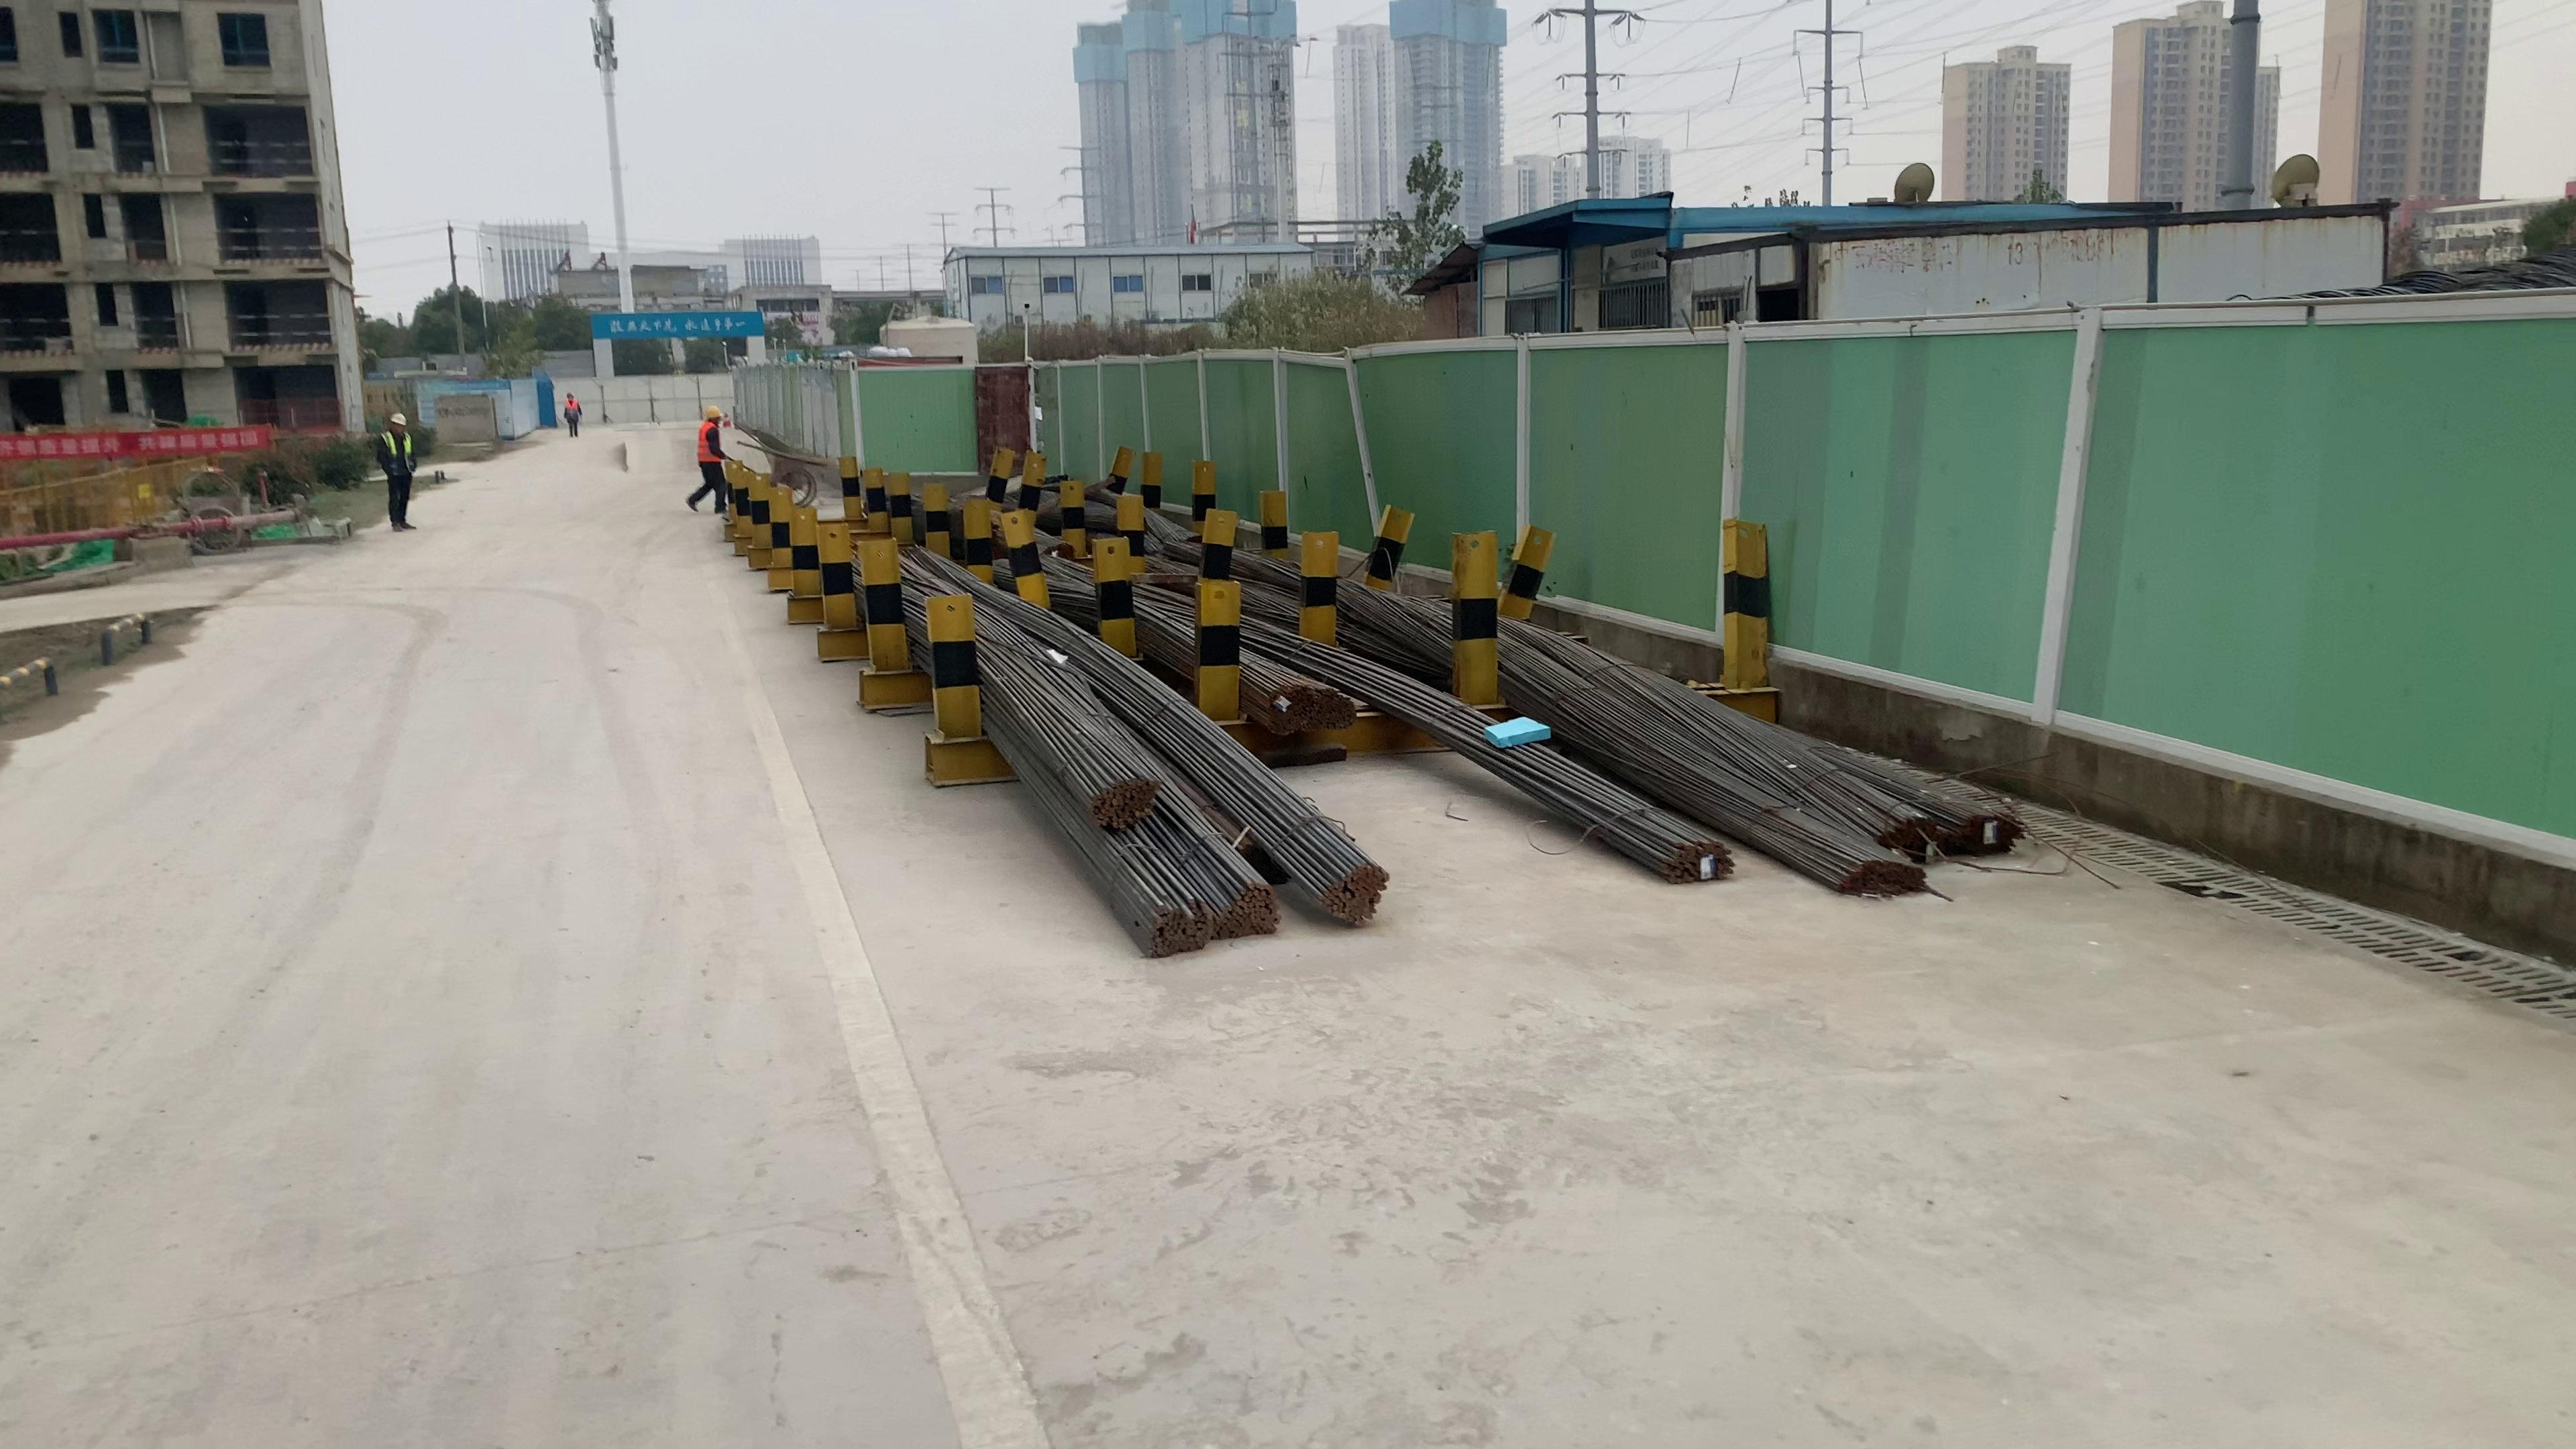rebar: (1136, 899, 1212, 964), (1652, 839, 1741, 890), (1323, 860, 1391, 924), (1835, 860, 1932, 899), (1090, 778, 1161, 830), (1959, 810, 2029, 855), (1217, 890, 1284, 936), (1263, 683, 1315, 732), (1890, 816, 1944, 855), (1316, 683, 1357, 732)
